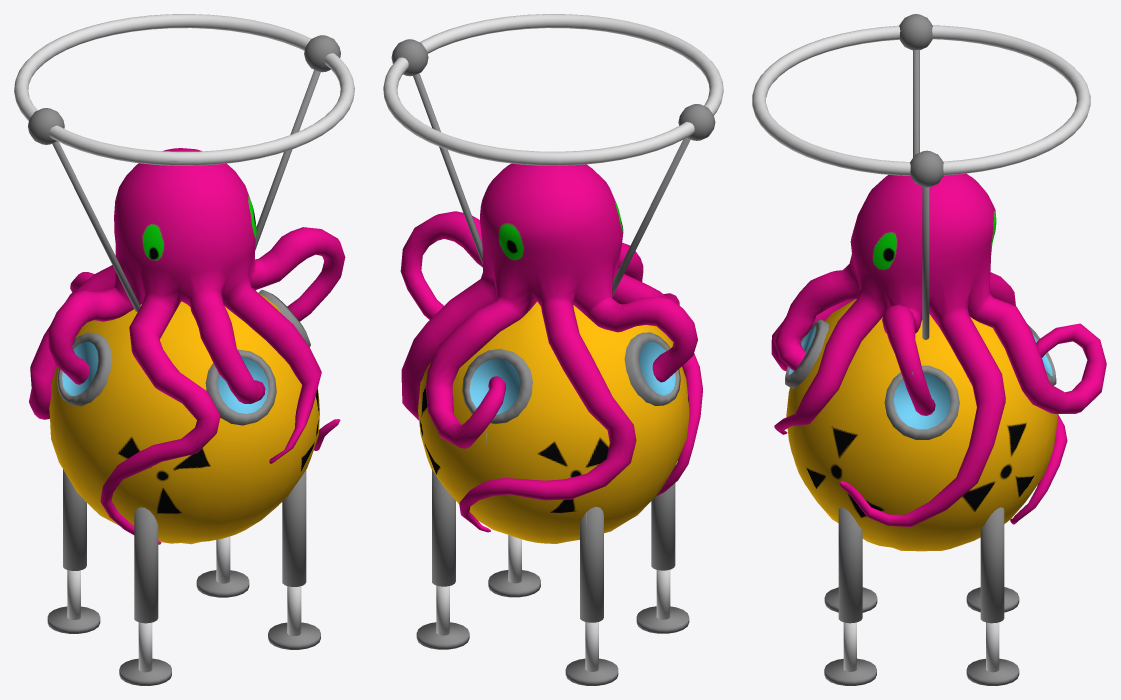
The model's file is OctopusTower1_9_animated.dae.
The picture shows the model from 3 angles, left to right: view 1: azimuth 30°, elevation 25°; view 2: azimuth 150°, elevation 25°; view 3: azimuth 270°, elevation 25°; orthographic projection.
Parts seen in each view (by area): view 1: Sphere_001; view 2: Sphere_001; view 3: Sphere_001.
Boxes of the visible parts, box(x1,y1,x2,y2) form: Sphere_001: box(14, 14, 354, 685); Sphere_001: box(383, 14, 723, 685); Sphere_001: box(752, 14, 1106, 685).
Size of the model in its own units: 5.08 by 5 by 8.63.
1 material, 1 textured.
